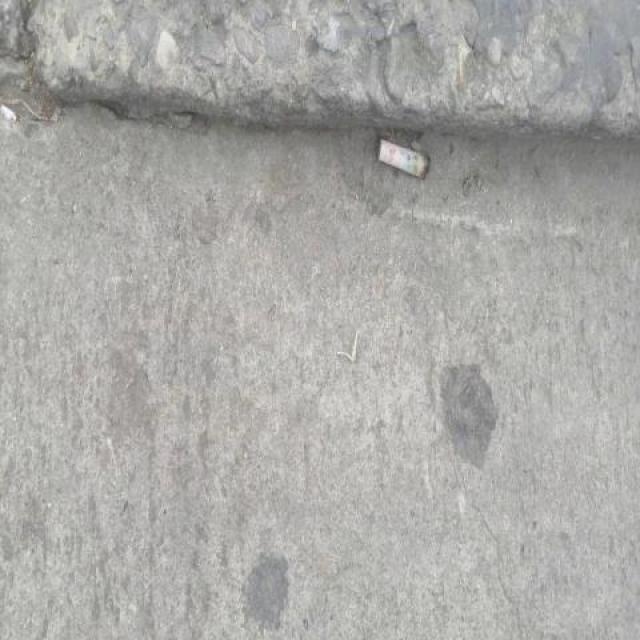non-organic waste: (374, 134, 434, 182)
